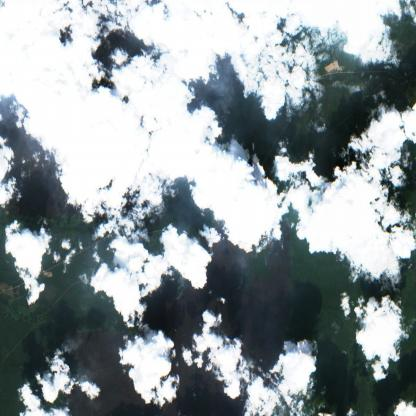fire: (211, 71, 239, 135)
